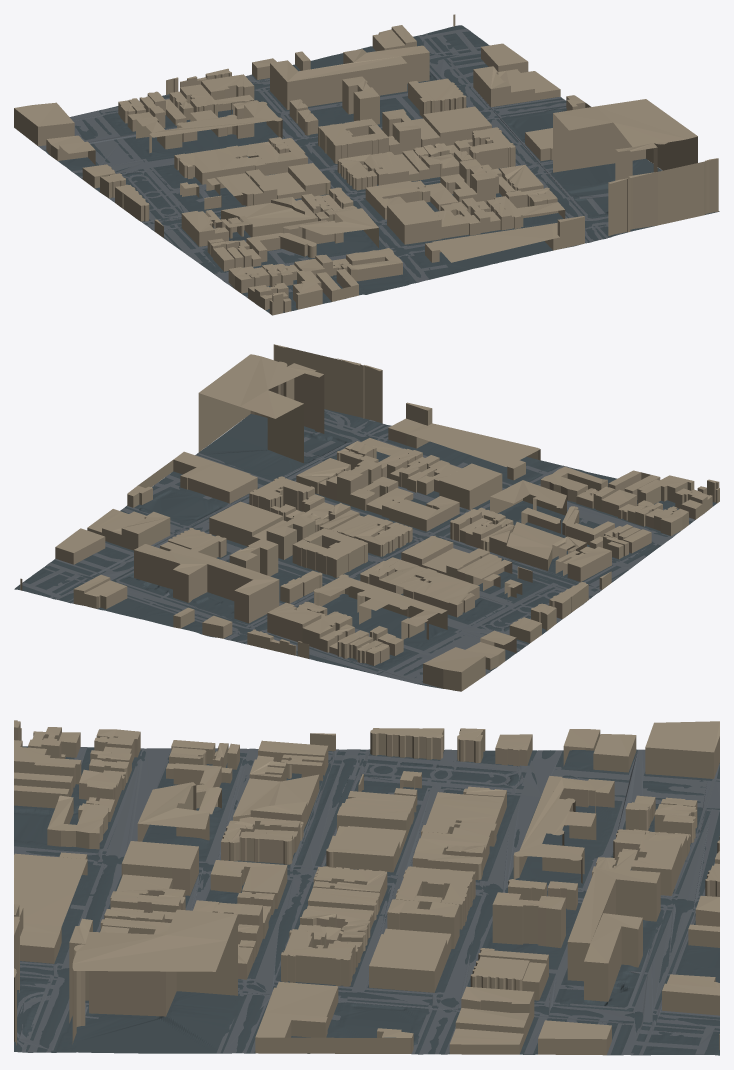
The model's file is epsg26910-1434-10888.lod0.glb.
The picture shows the model from 3 angles, top to bottom: view 1: azimuth 30°, elevation 25°; view 2: azimuth 150°, elevation 25°; view 3: azimuth 270°, elevation 25°; orthographic projection. The views are drawn at different scales.
Parts seen in each view (by area): view 1: epsg26910-1434-10888-lod0; view 2: epsg26910-1434-10888-lod0; view 3: epsg26910-1434-10888-lod0.
Boxes of the visible parts, x1,y1,x2,y2 form: epsg26910-1434-10888-lod0: [14, 14, 719, 315]; epsg26910-1434-10888-lod0: [14, 344, 719, 691]; epsg26910-1434-10888-lod0: [14, 720, 719, 1055].
Bounding box in the file's own units: 384 × 53.53 × 384.
